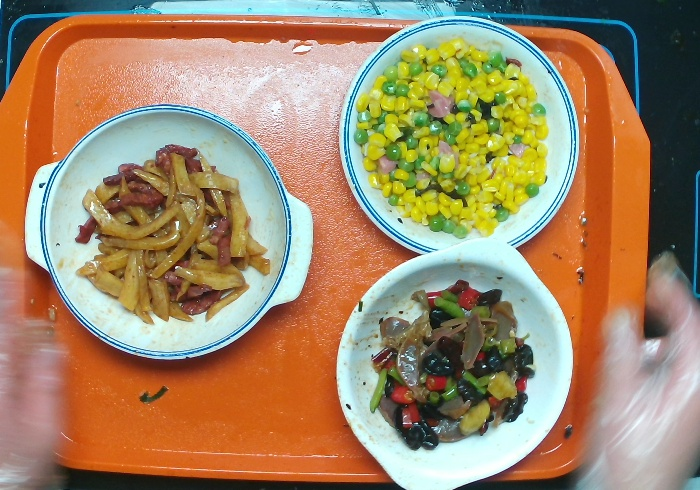HZYJPL-Dai_Er_Bai_Yuan_Wan: (332, 235, 575, 490)
HZYJPL-Lan_Bian_Dai_Er_Wan: (22, 102, 316, 361)
HZYJPL-Lan_Bian_Yuan_Die: (336, 13, 581, 253)
